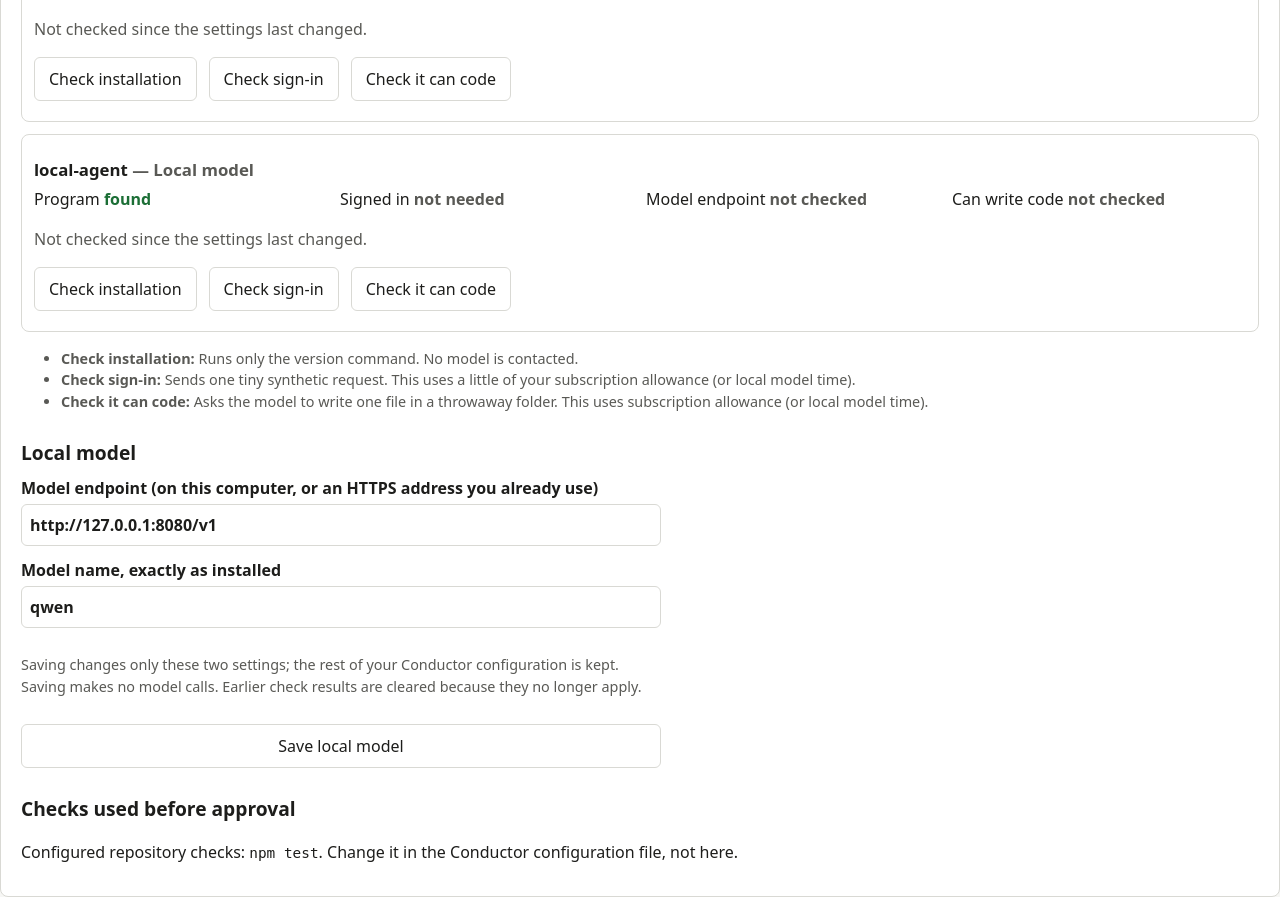
Scenario: setup › saving validates first, then saves only the local model settings
(page scrolled)
What coordinates should you click on to do the following:
click the button "Save local model"
I would click on:
 (341, 746)
Its box is [21,724,661,768].
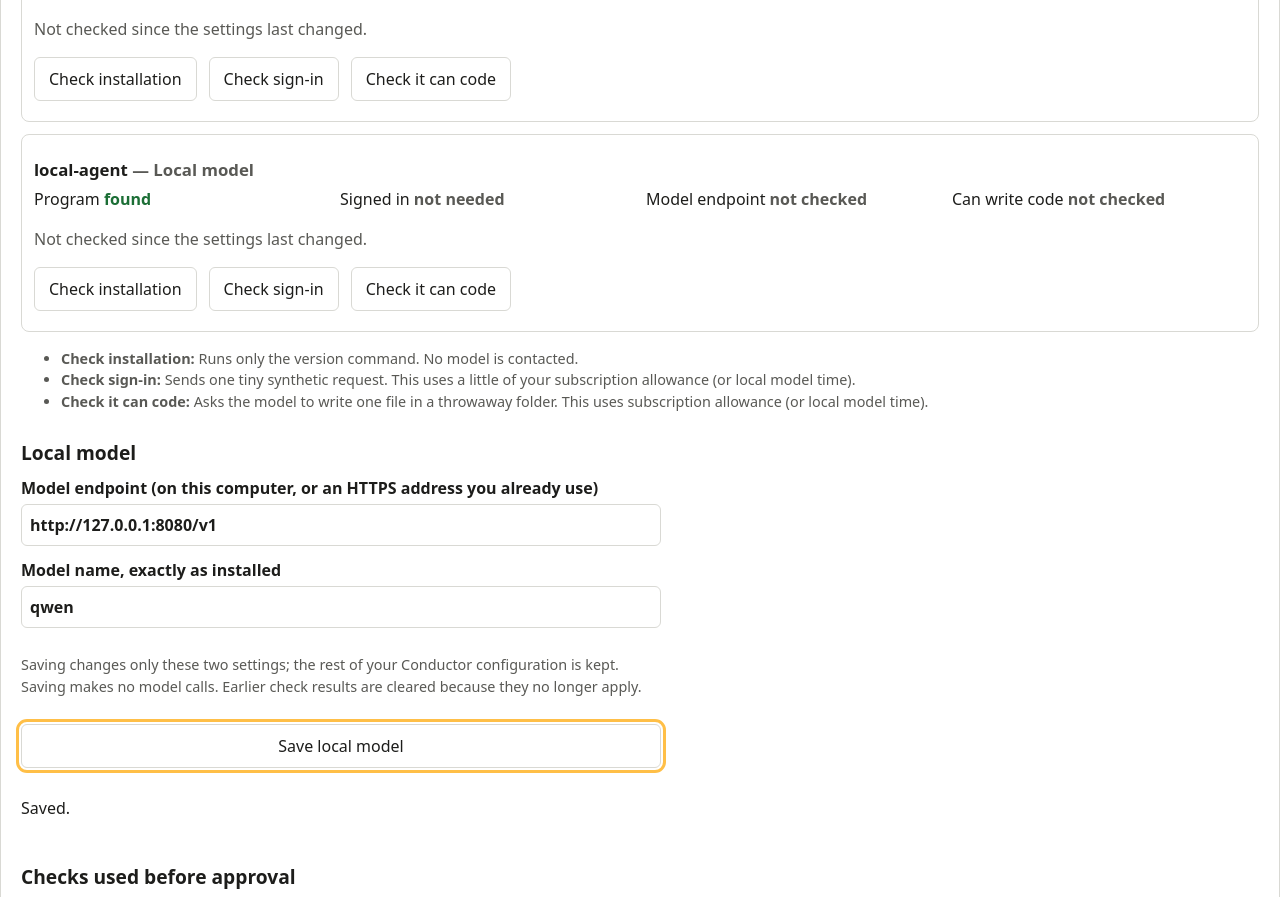
Result: the text "Saved." is shown at [21,797,70,819]
